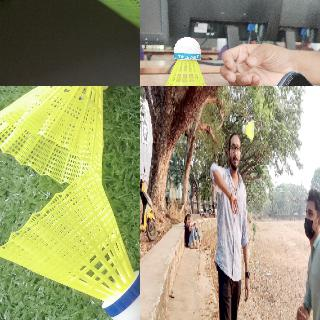shuttlecock: (0, 171, 139, 319), (0, 86, 117, 182), (47, 0, 139, 68), (152, 37, 217, 85), (242, 120, 254, 140)
